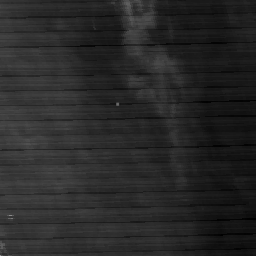Target: (114, 101, 120, 106)
